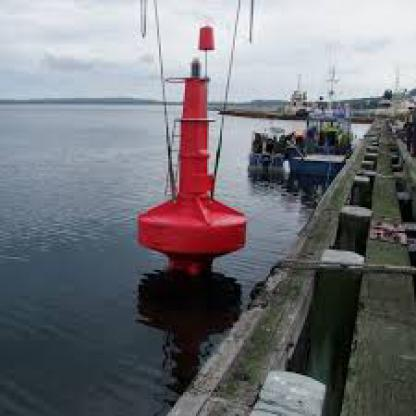buoy: (130, 22, 255, 281)
